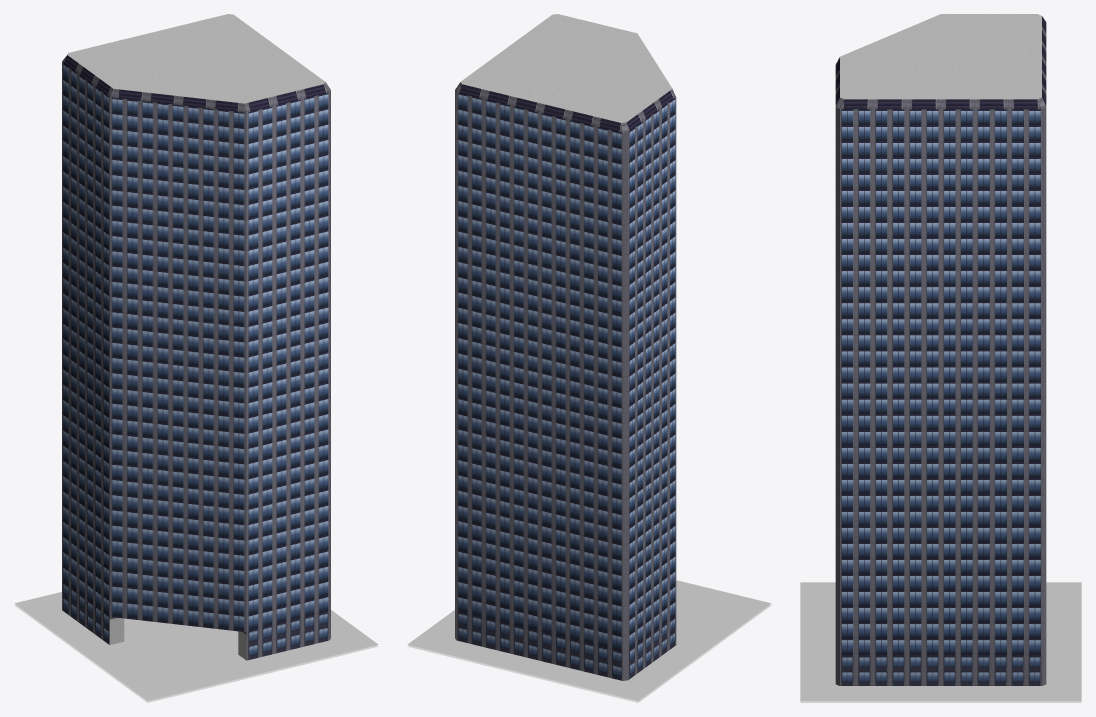
File: bldg02.FBX
3 views of the same model, side by side, from view 1: azimuth 30°, elevation 25°; view 2: azimuth 150°, elevation 25°; view 3: azimuth 270°, elevation 25° (orthographic). The views are drawn at different scales.
Parts seen in each view (by area): view 1: bldg02, daroof2, obj001, grid005, terrain__h; view 2: bldg02, daroof2, obj001, grid005, terrain__h; view 3: bldg02, daroof2, obj001, grid005, terrain__h.
Boxes of the visible parts, x1,y1,x2,y2 form: bldg02: (62, 53, 330, 632); daroof2: (68, 14, 324, 103); obj001: (14, 592, 378, 700); grid005: (62, 582, 330, 660); terrain__h: (14, 605, 378, 702); bldg02: (455, 82, 676, 652); daroof2: (461, 14, 672, 122); obj001: (407, 580, 771, 700); grid005: (455, 610, 676, 680); terrain__h: (407, 605, 771, 702); bldg02: (835, 16, 1046, 656); daroof2: (840, 14, 1041, 99); obj001: (800, 582, 1081, 700); grid005: (835, 655, 1046, 685); terrain__h: (800, 701, 1081, 702).
Size of what is drawn, in the model's own units: 64 by 64 by 148.
